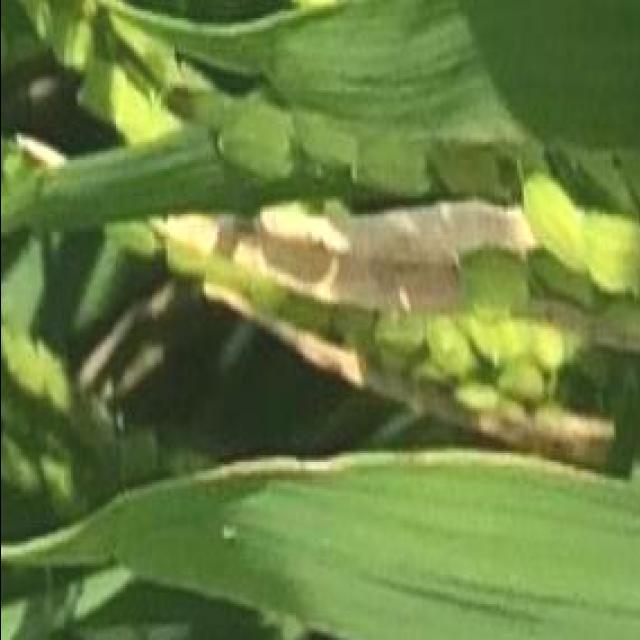Bacterial_Leaf_Blight: (169, 441, 640, 640)
